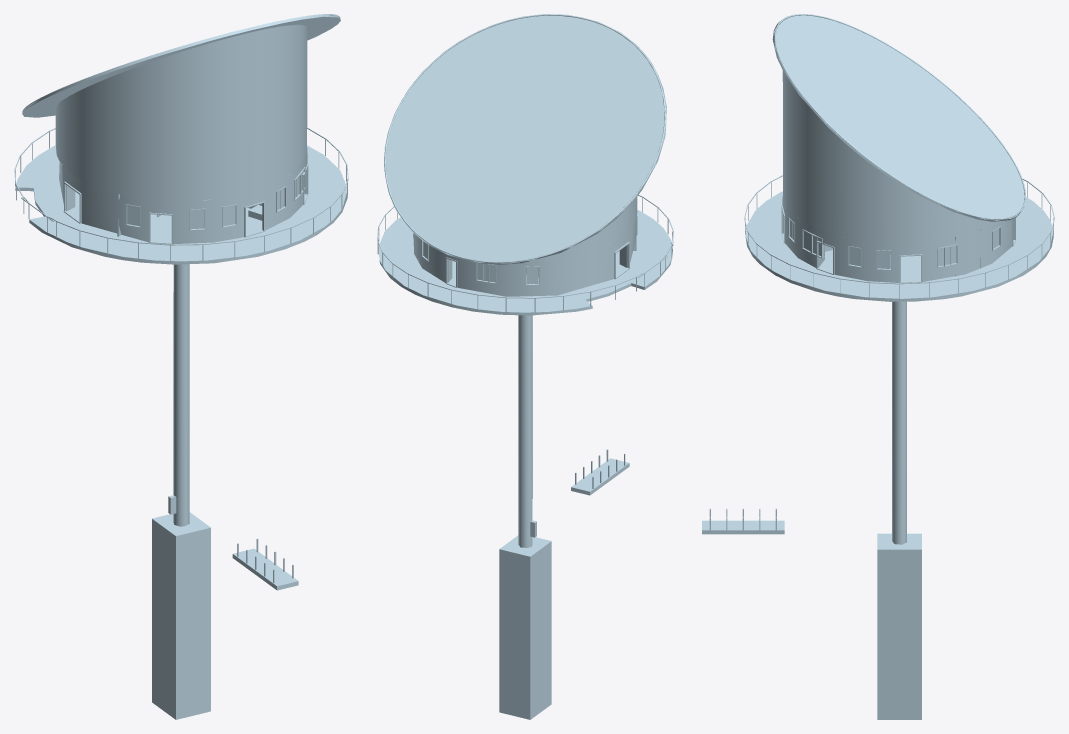
File: tower_crown_7_lod2.glb
The picture shows the model from 3 angles, left to right: view 1: azimuth 30°, elevation 25°; view 2: azimuth 150°, elevation 25°; view 3: azimuth 270°, elevation 25°; orthographic projection. The views are drawn at different scales.
Visible parts, largest first — view 1: Roof infill, Slab 6, Pod container, Facade 6, Hatch column, Solar disc, Bridge deck; view 2: Solar disc, Pod container, Slab 6, Facade 6, Hatch column, Solar rim, Roof infill, Bridge deck; view 3: Solar disc, Roof infill, Slab 6, Pod container, Facade 6, Hatch column, Solar rim, Bridge deck.
Boxes of the visible parts, <box> form: Roof infill: <box>55,24,307,201</box>; Slab 6: <box>15,145,347,264</box>; Pod container: <box>152,512,210,719</box>; Facade 6: <box>59,146,307,244</box>; Hatch column: <box>173,264,189,526</box>; Solar disc: <box>22,14,340,117</box>; Bridge deck: <box>232,548,298,590</box>; Solar disc: <box>384,14,666,264</box>; Pod container: <box>499,535,551,719</box>; Slab 6: <box>378,210,672,315</box>; Facade 6: <box>413,216,636,296</box>; Hatch column: <box>518,315,532,547</box>; Solar rim: <box>384,14,665,263</box>; Roof infill: <box>539,197,637,258</box>; Bridge deck: <box>571,458,629,495</box>; Solar disc: <box>772,15,1025,221</box>; Roof infill: <box>782,70,994,243</box>; Slab 6: <box>745,191,1053,301</box>; Pod container: <box>877,533,921,719</box>; Facade 6: <box>782,196,1012,282</box>; Hatch column: <box>892,301,906,544</box>; Solar rim: <box>774,14,1025,219</box>; Bridge deck: <box>702,520,784,534</box>.
Size of the model in its own units: 20.1 by 48.3 by 22.87.
